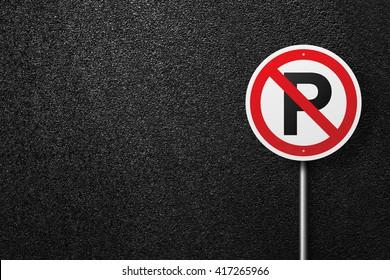No Parking: (244, 41, 364, 164)
